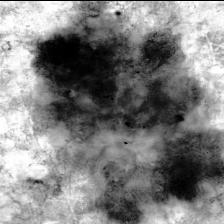Potentially Malignant Skin Tumors: (46, 30, 124, 124), (131, 45, 191, 119), (92, 153, 152, 224), (172, 140, 216, 202)
